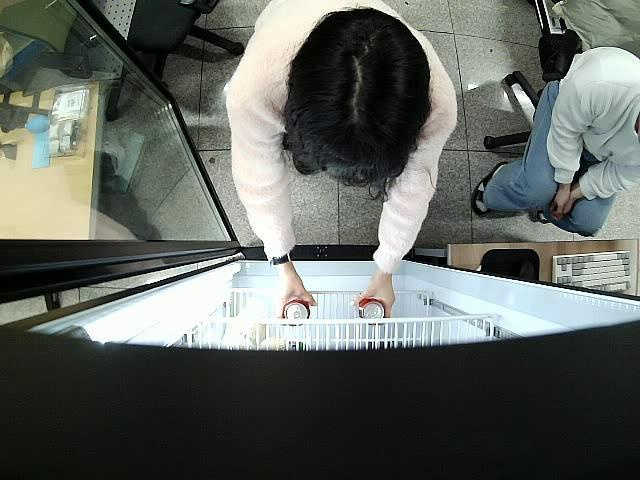11_cocaColaZero: (356, 298, 386, 325), (283, 300, 312, 327)
